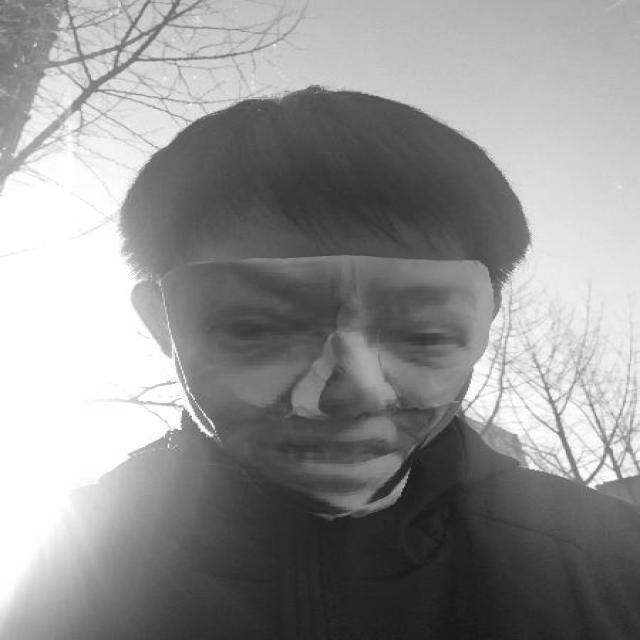fake: (199, 262, 472, 491)
